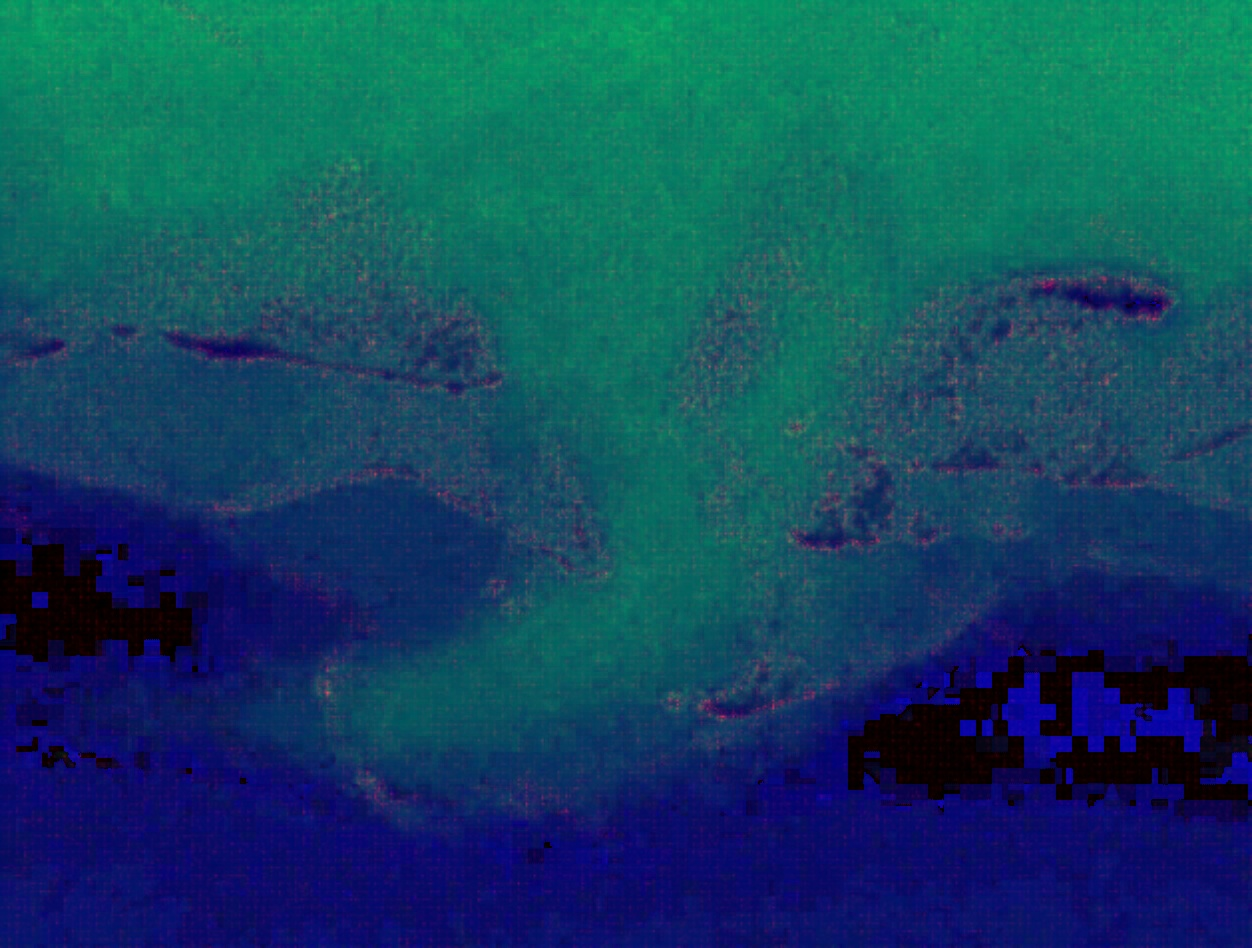rip_current: (422, 233, 828, 721)
